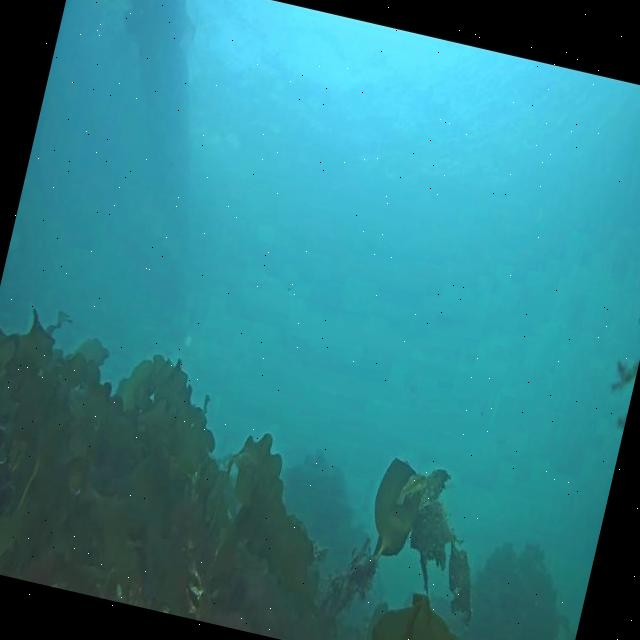fish: (397, 471, 427, 506)
